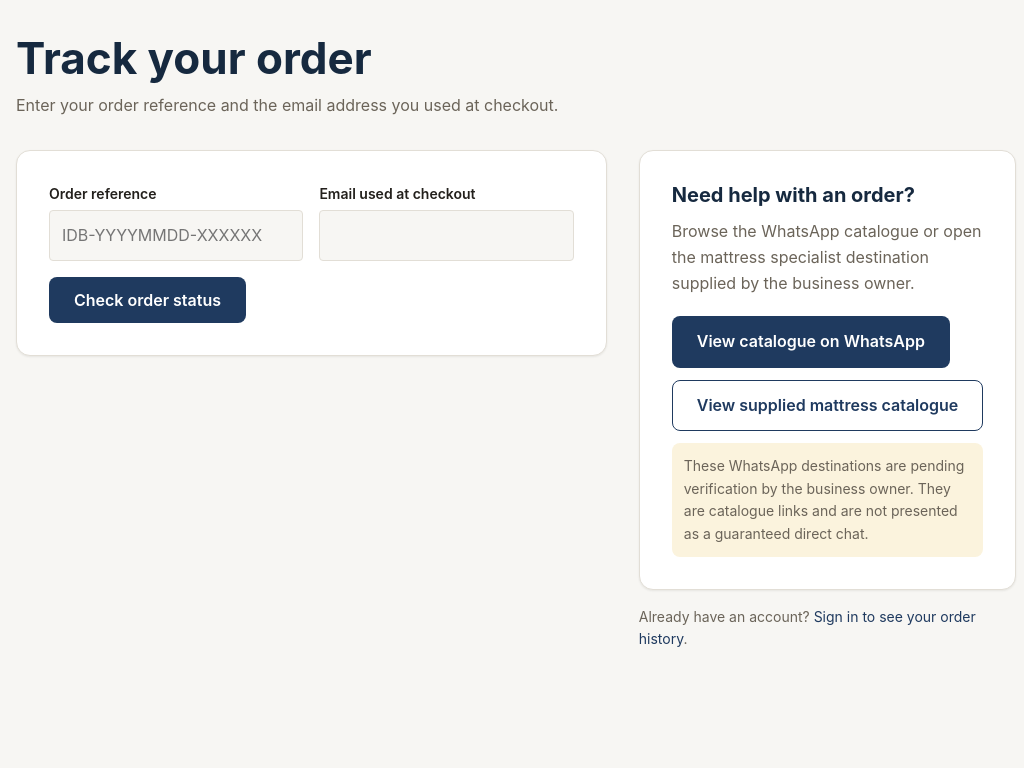
it: TrackOrder › does not claim a receipt before payment is verified
Type "IDB-20260101-ABCDEF" into the field labelled "Order reference". click: (176, 236)
box: x1=49 y1=210 x2=303 y2=261
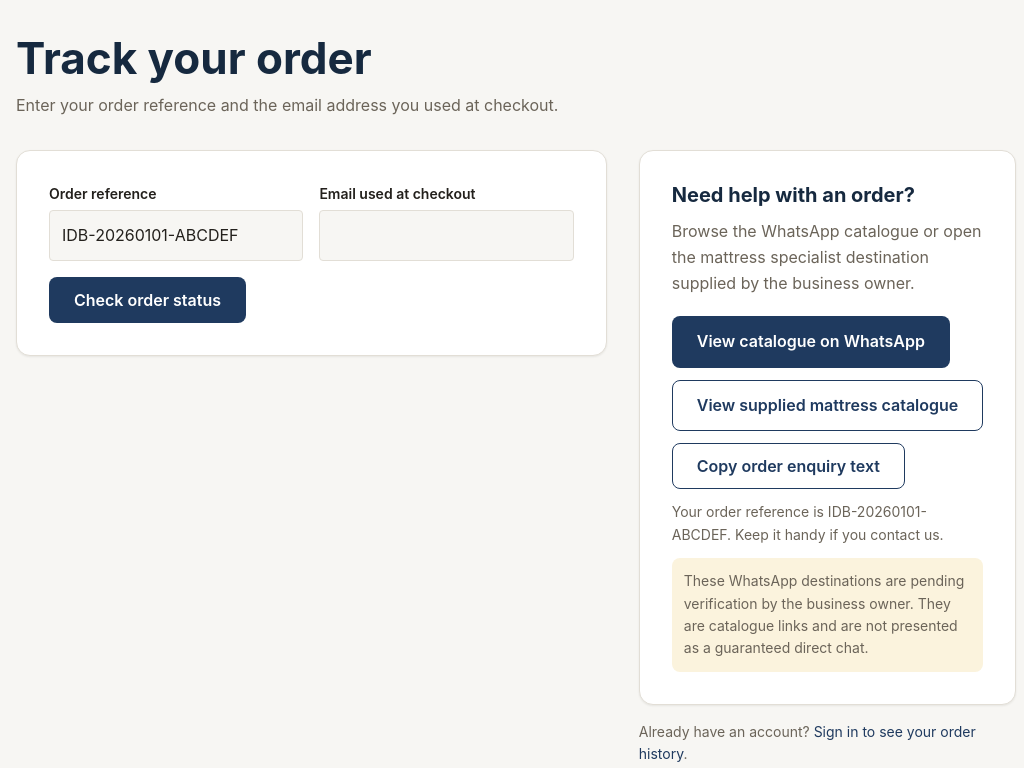
Type "ada@example.com" into the field labelled "Email used at checkout". click: (447, 236)
box: x1=319 y1=210 x2=574 y2=261
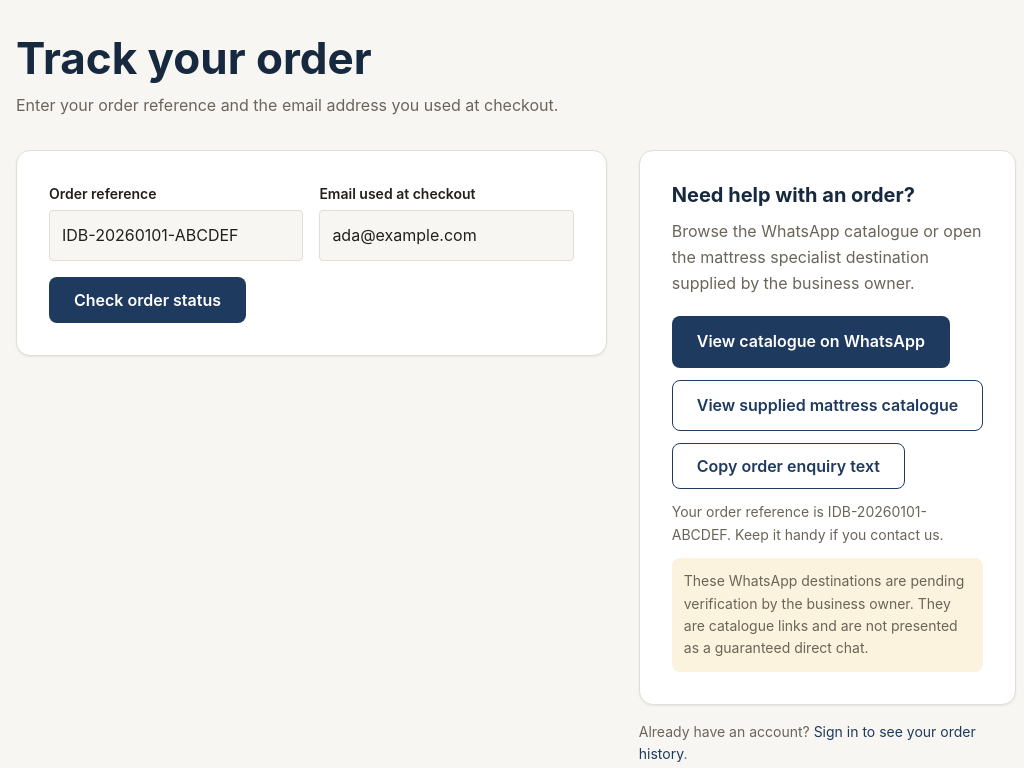
Click the button "Check order status". click: (148, 300)
box: x1=49 y1=277 x2=246 y2=323
(page scrolled)
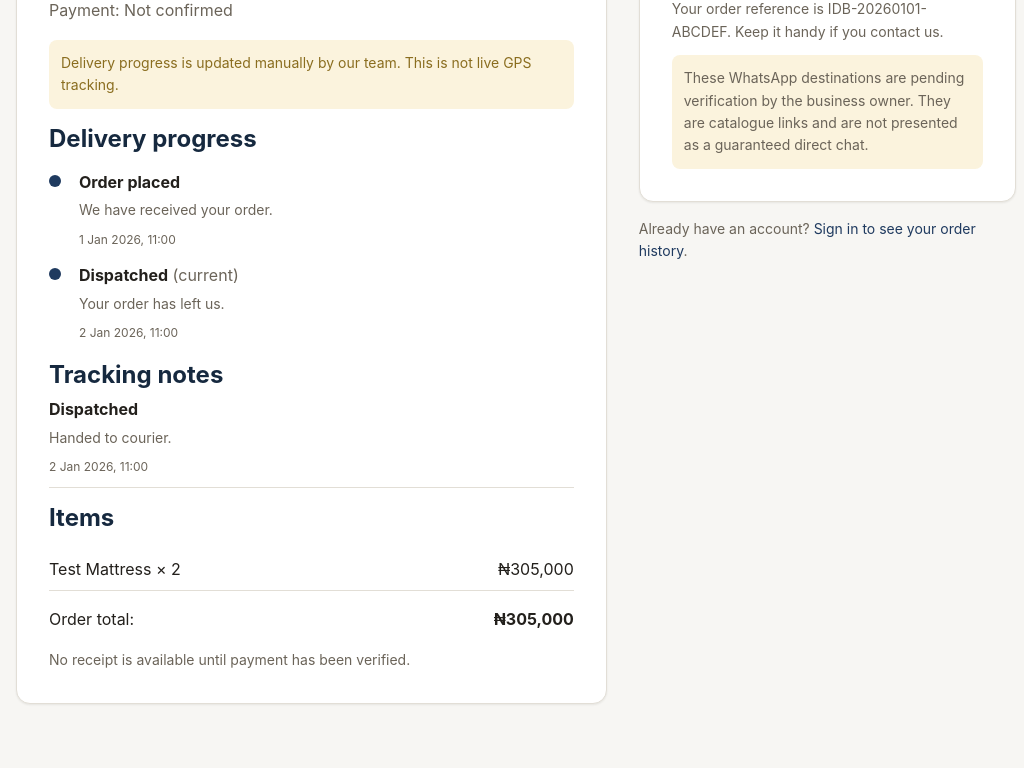
Expected: the text "No receipt is available until payment has been verified." is shown, x1=49 y1=651 x2=410 y2=668
